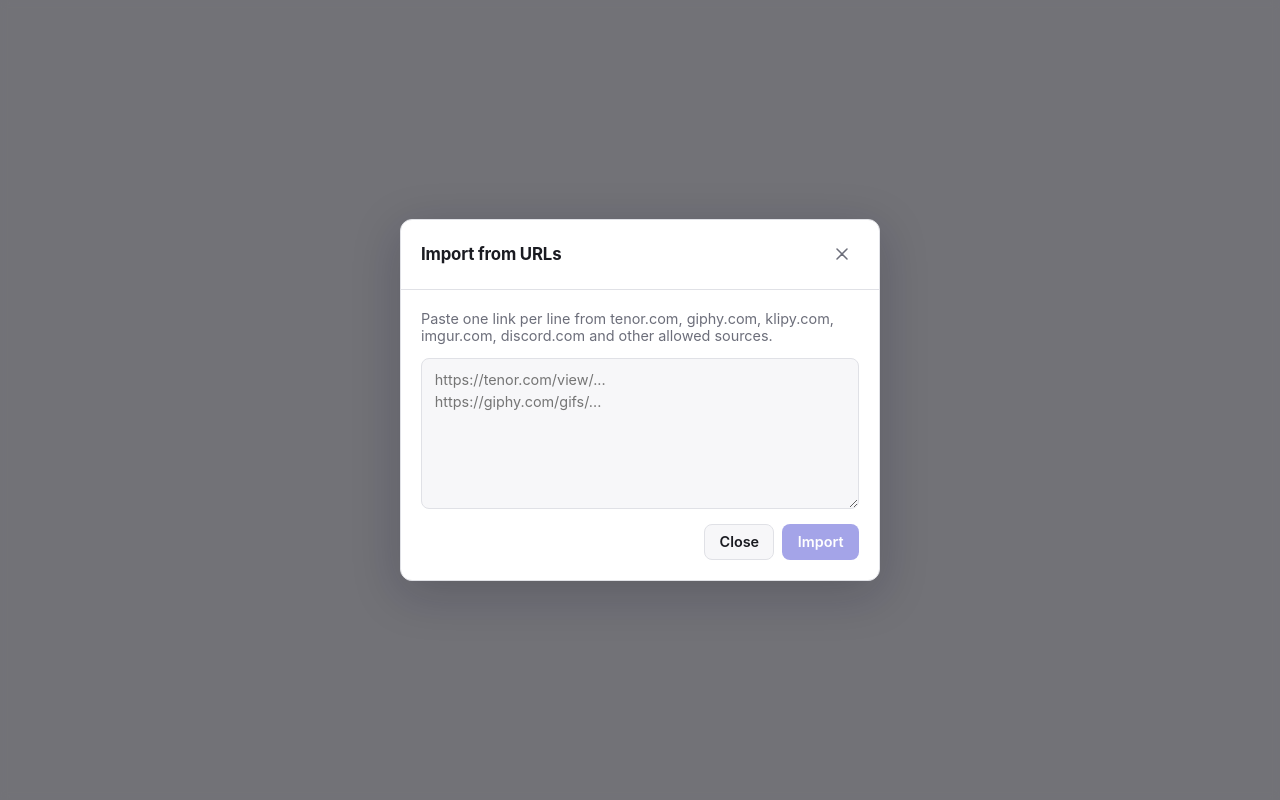
Test: ImportDialog › reports how many were skipped and keeps the text when nothing succeeded
In the text box named "Import URLs": (640, 434) x1=421 y1=358 x2=859 y2=509, type "https://tenor.com/view/a"
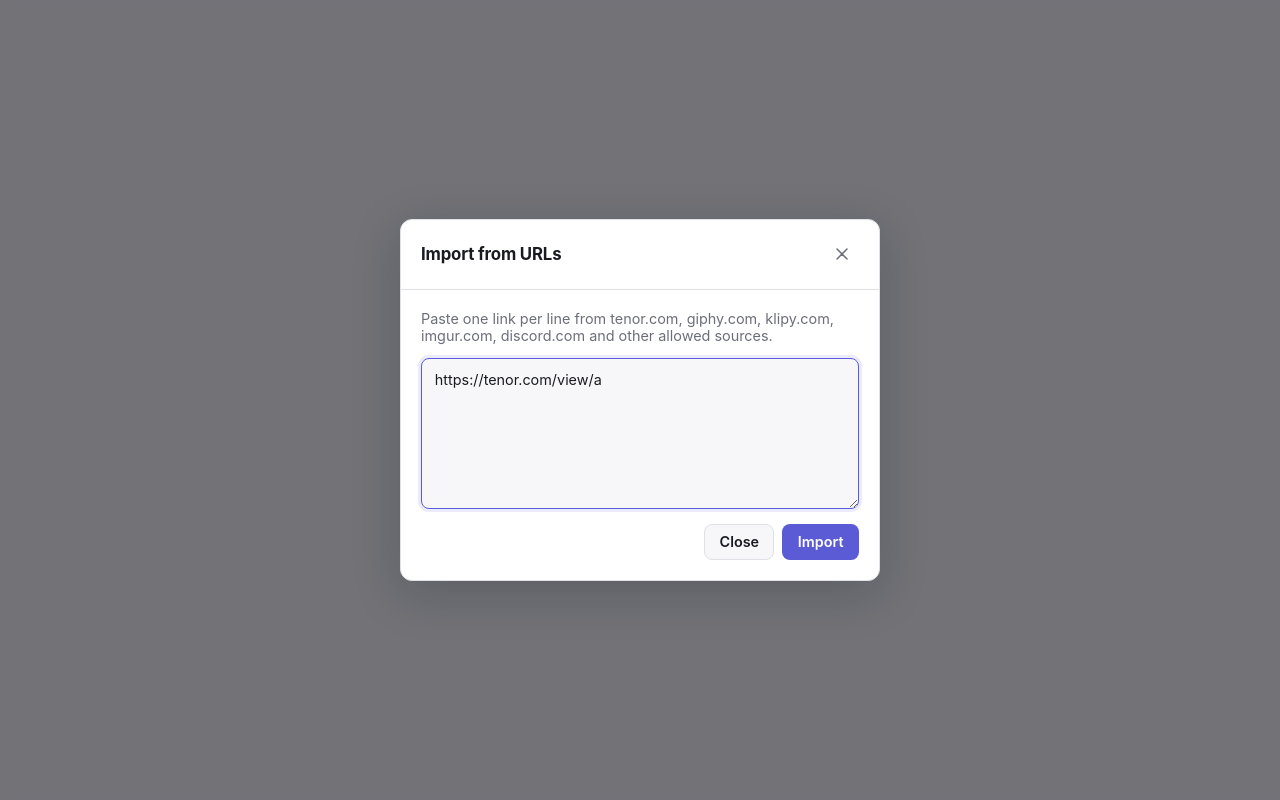
Click the button "Import": (821, 542) x1=782 y1=524 x2=859 y2=560
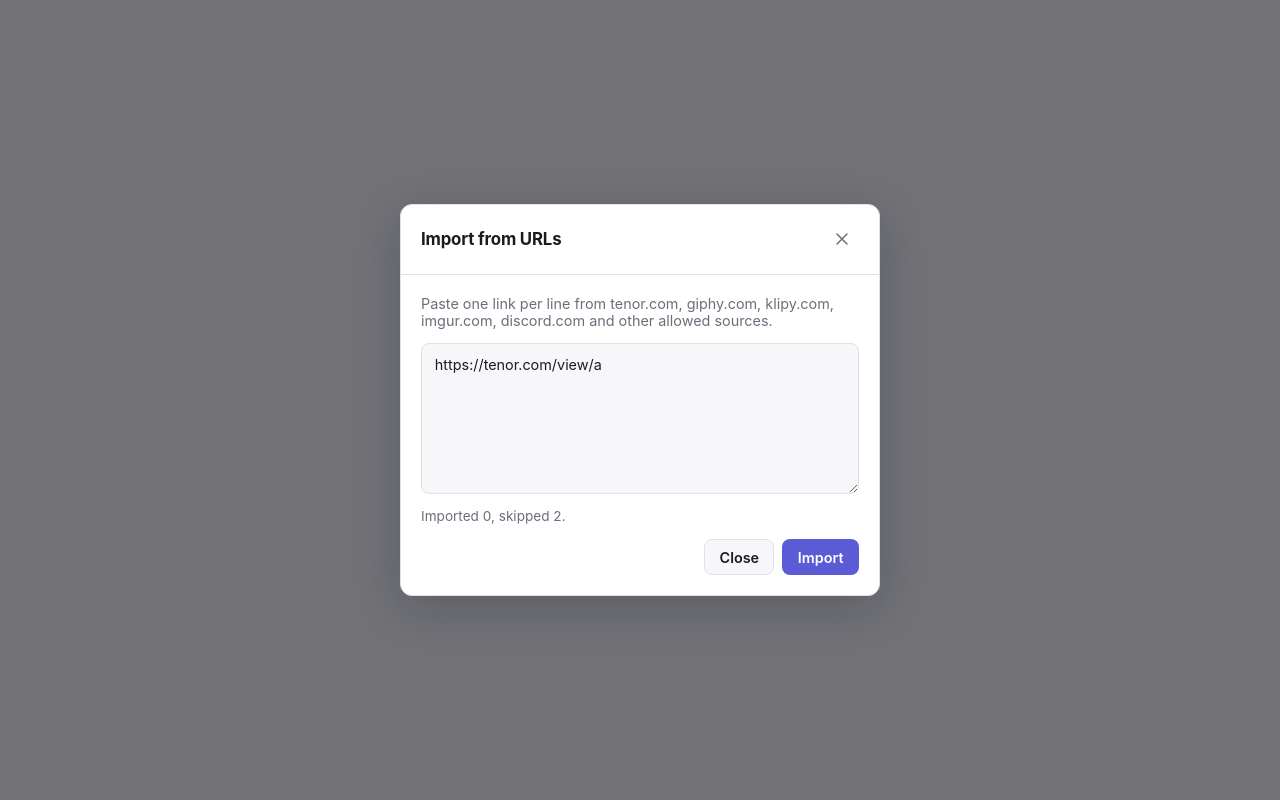
Expected: the text "Imported 0, skipped 2." is shown, x1=421 y1=508 x2=566 y2=524
